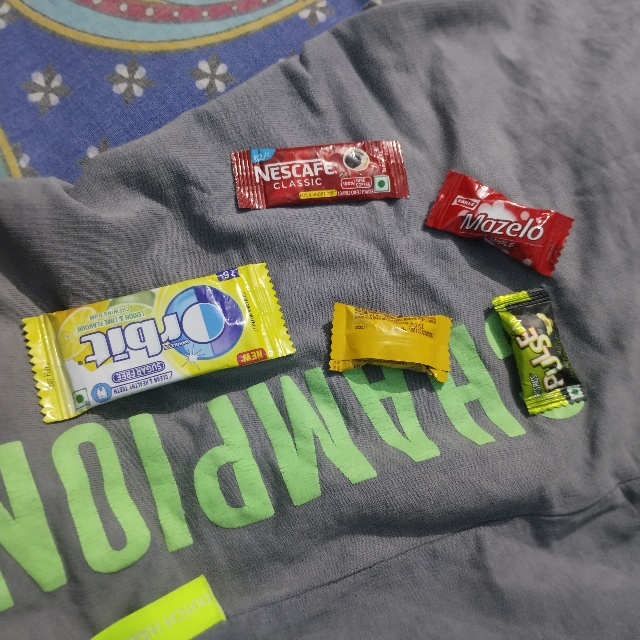Alpenlibe Creamfills: (331, 297, 462, 370)
Mazelo: (447, 163, 588, 236)
Nescafe Coffee: (220, 147, 402, 220)
Orbit: (11, 321, 285, 431)
Pulse: (551, 273, 640, 346)
